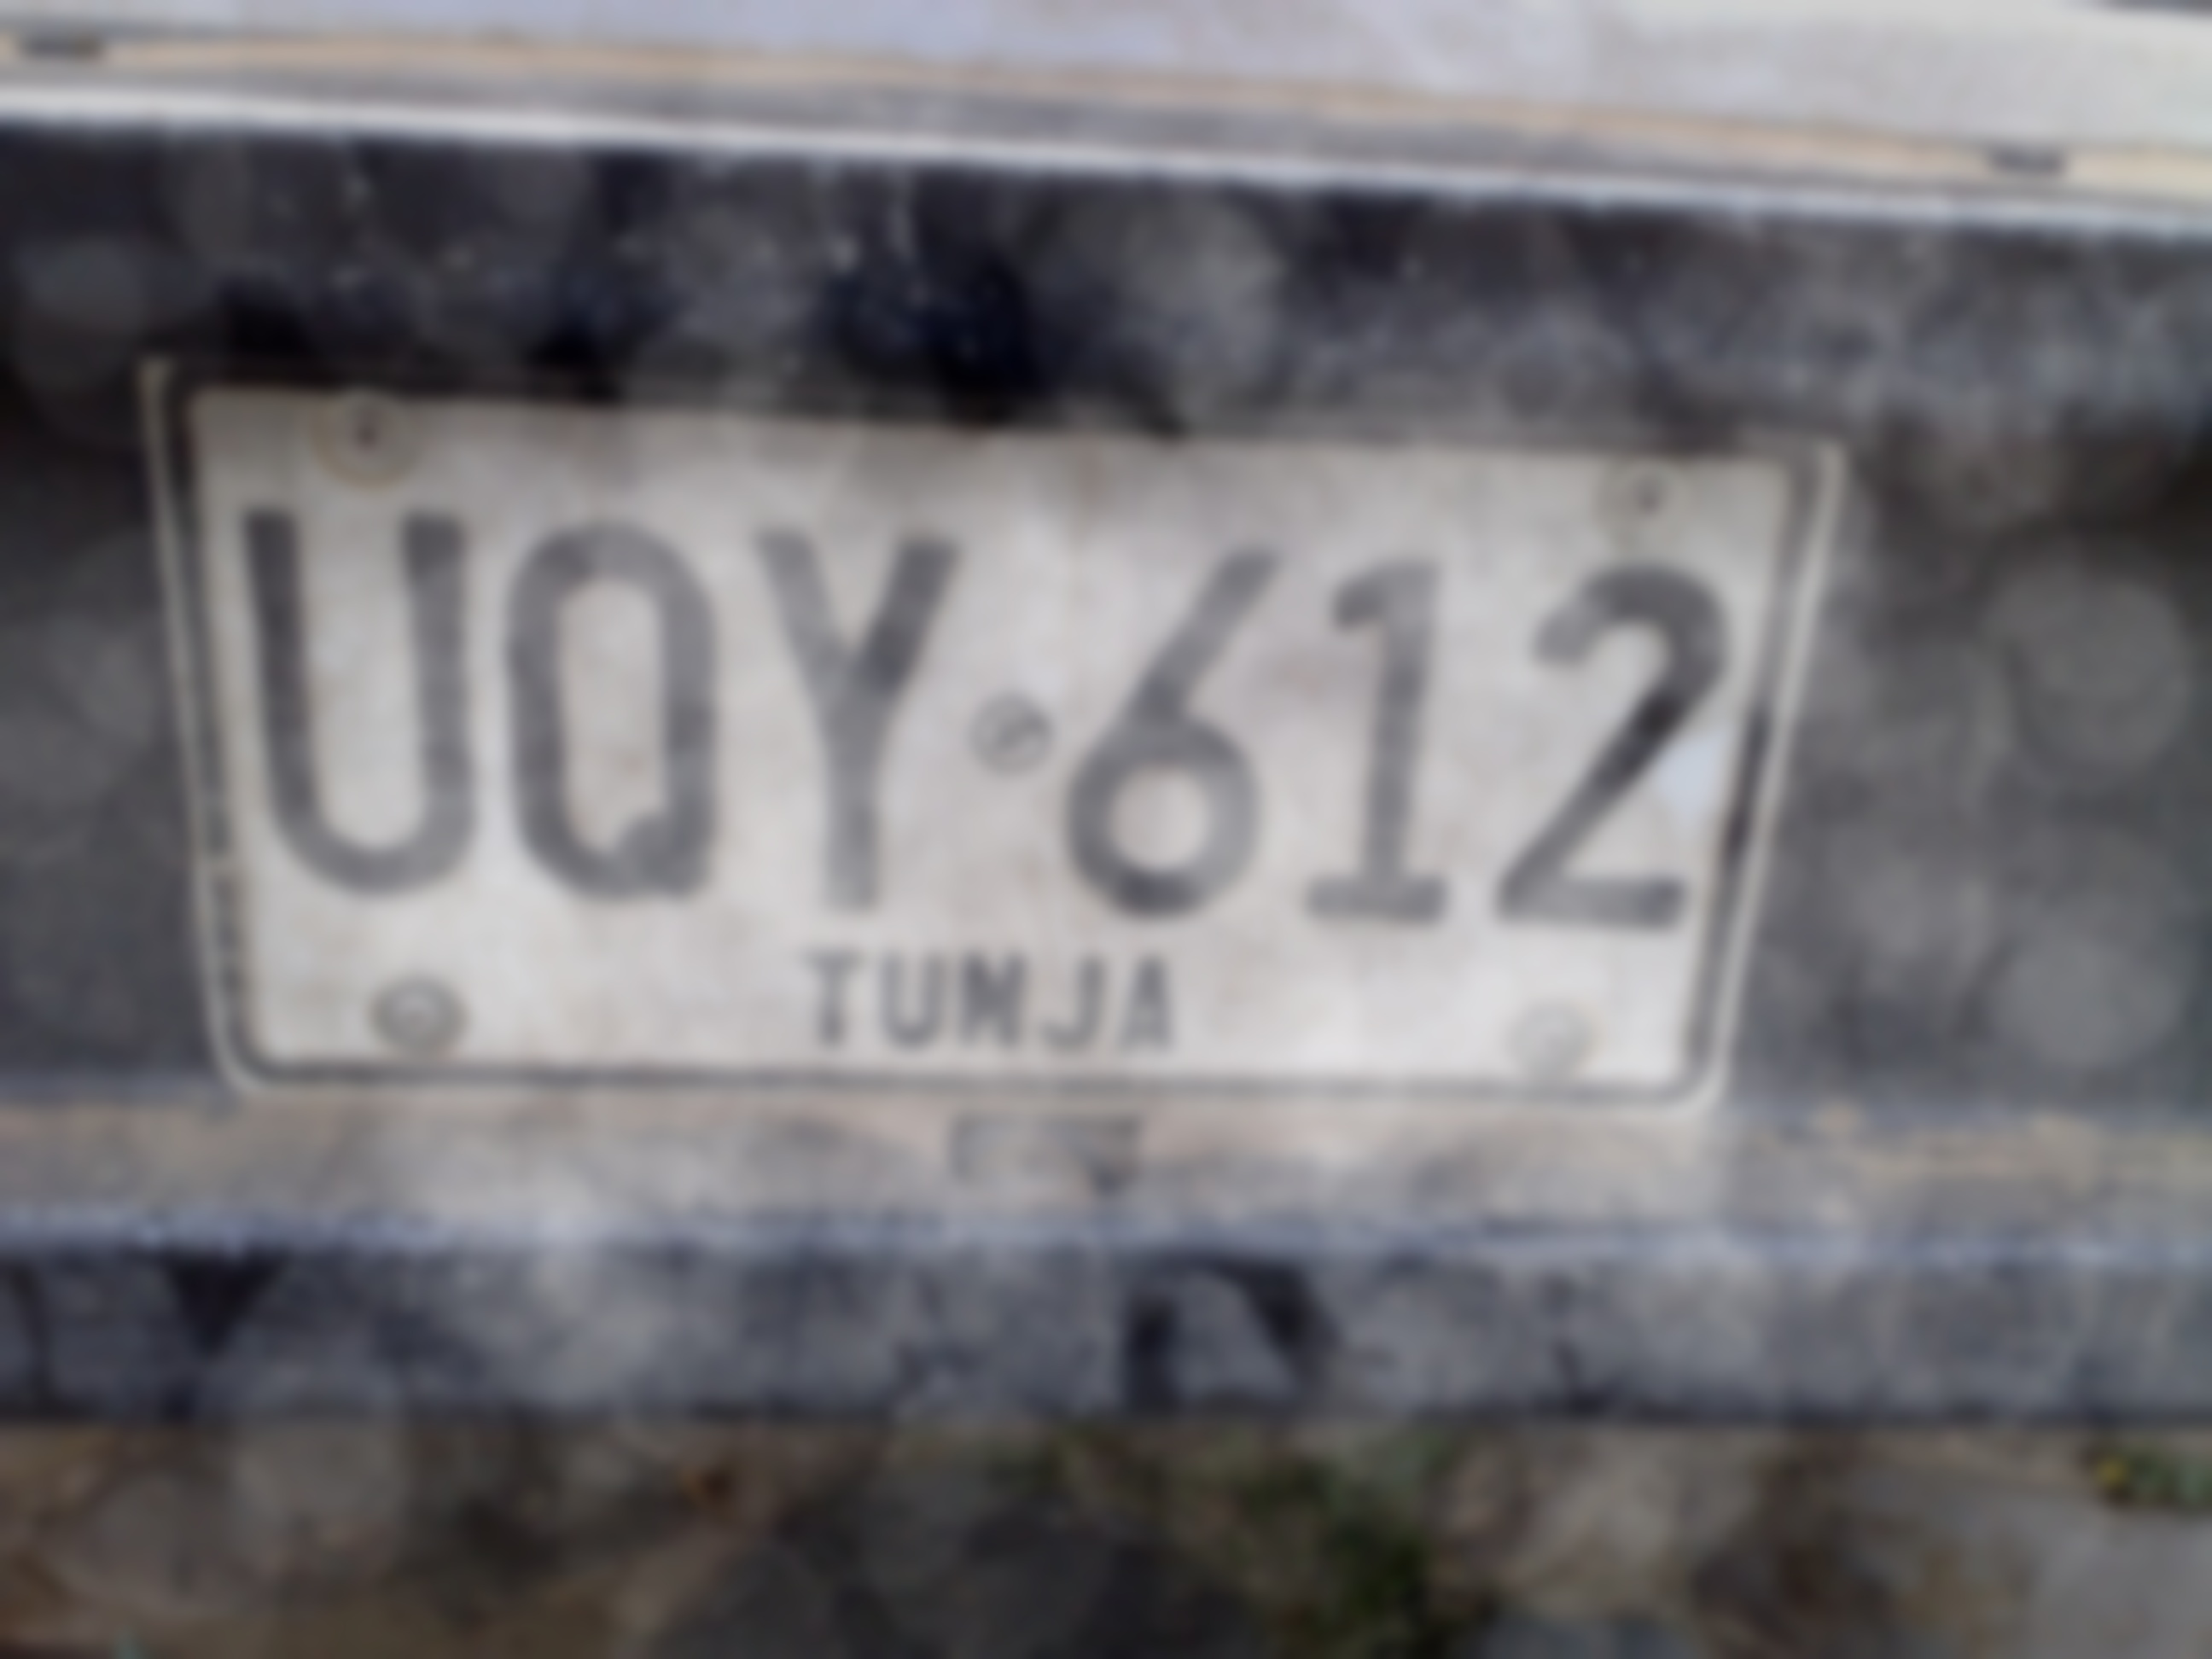placas: (138, 346, 1859, 1128)
